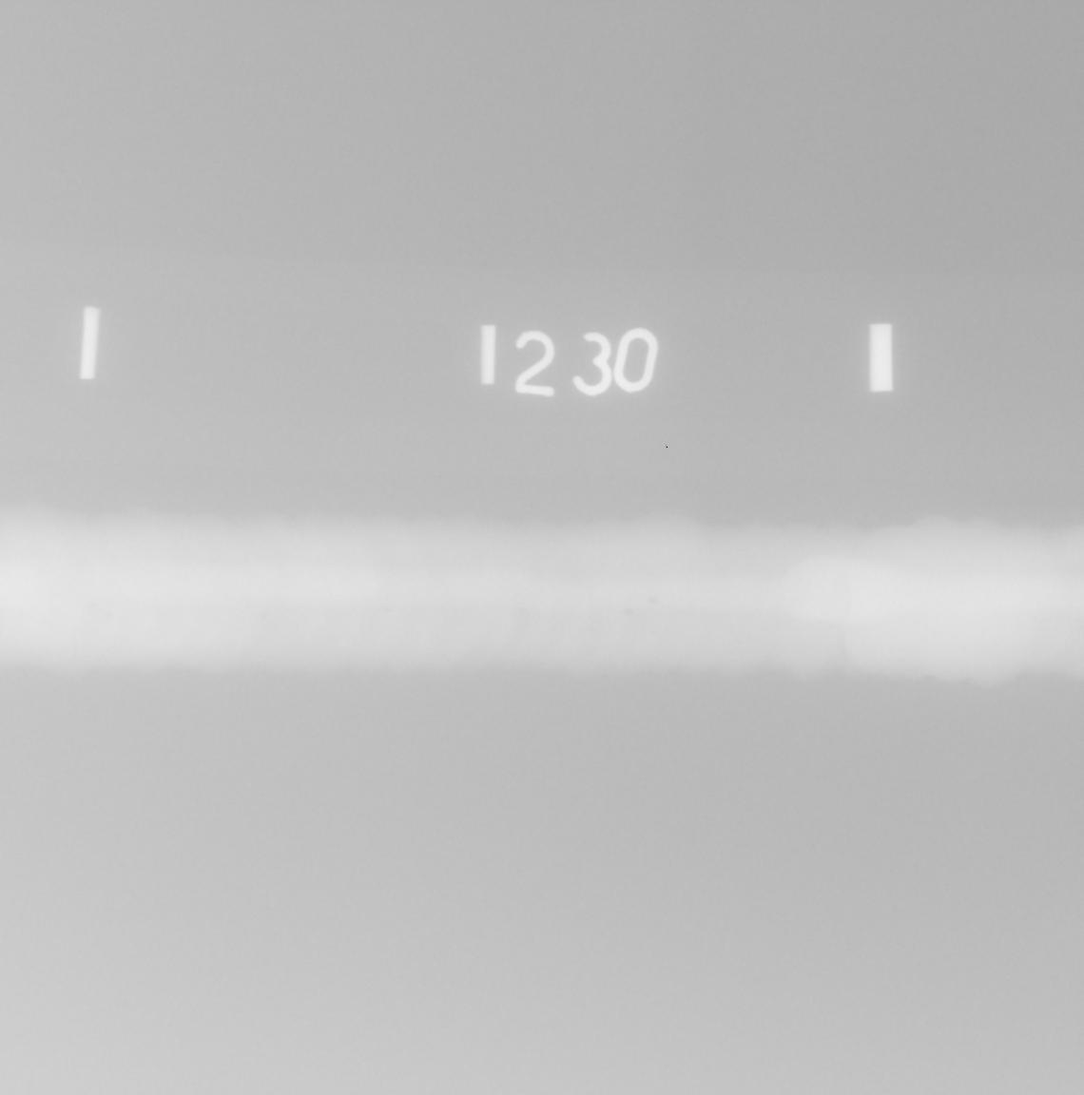Pore/Porosity: (624, 609, 631, 615), (649, 597, 656, 603), (600, 562, 606, 567), (980, 630, 986, 635), (90, 604, 96, 608), (106, 613, 112, 617), (590, 628, 595, 632), (262, 615, 266, 619), (386, 609, 390, 613), (248, 563, 252, 566), (112, 559, 116, 562), (129, 549, 133, 552), (212, 560, 215, 564), (652, 630, 655, 634), (281, 564, 284, 567)
